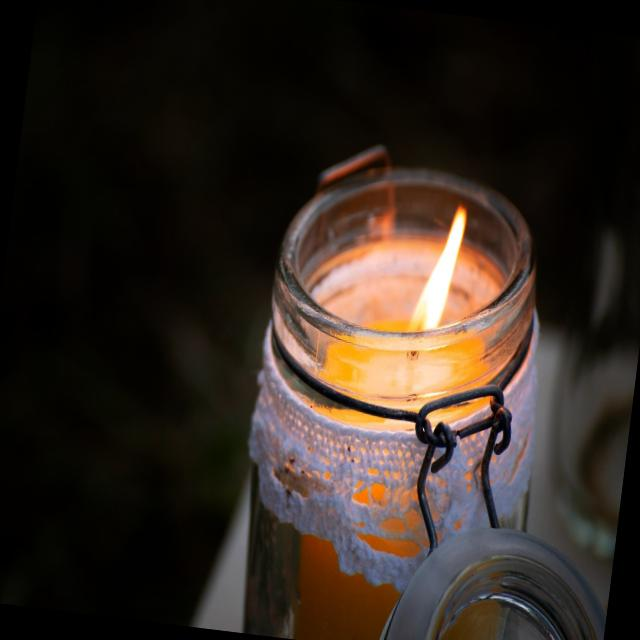Fire_Save: (223, 133, 570, 640)
